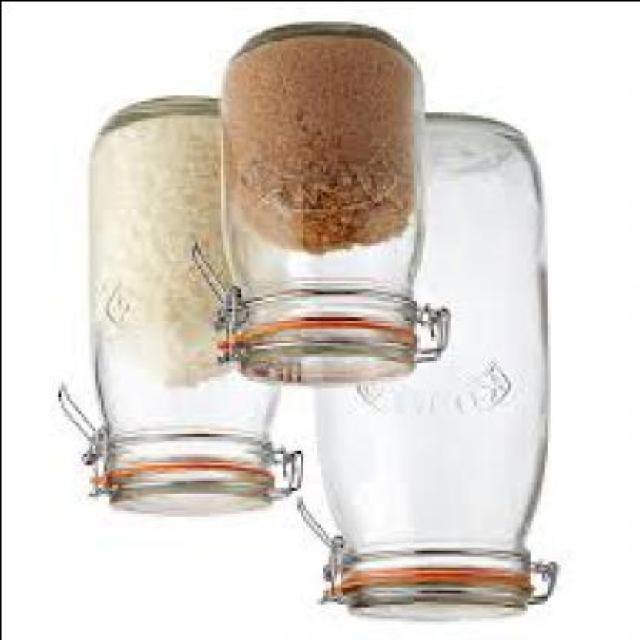BIODEGRADABLE: (228, 43, 412, 255), (102, 119, 230, 390)
GLASS: (318, 116, 550, 621), (94, 102, 278, 518), (216, 25, 421, 387)
